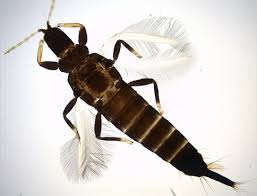Phlaeothripidae: (1, 1, 251, 194)
